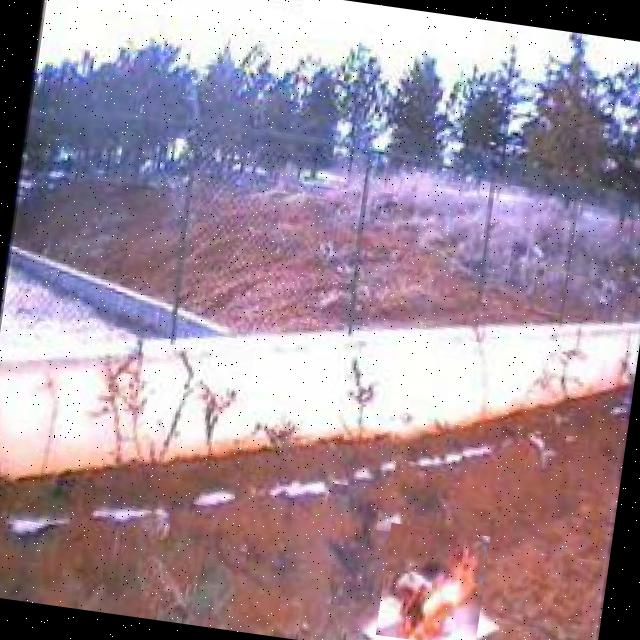fire: (375, 523, 490, 640)
